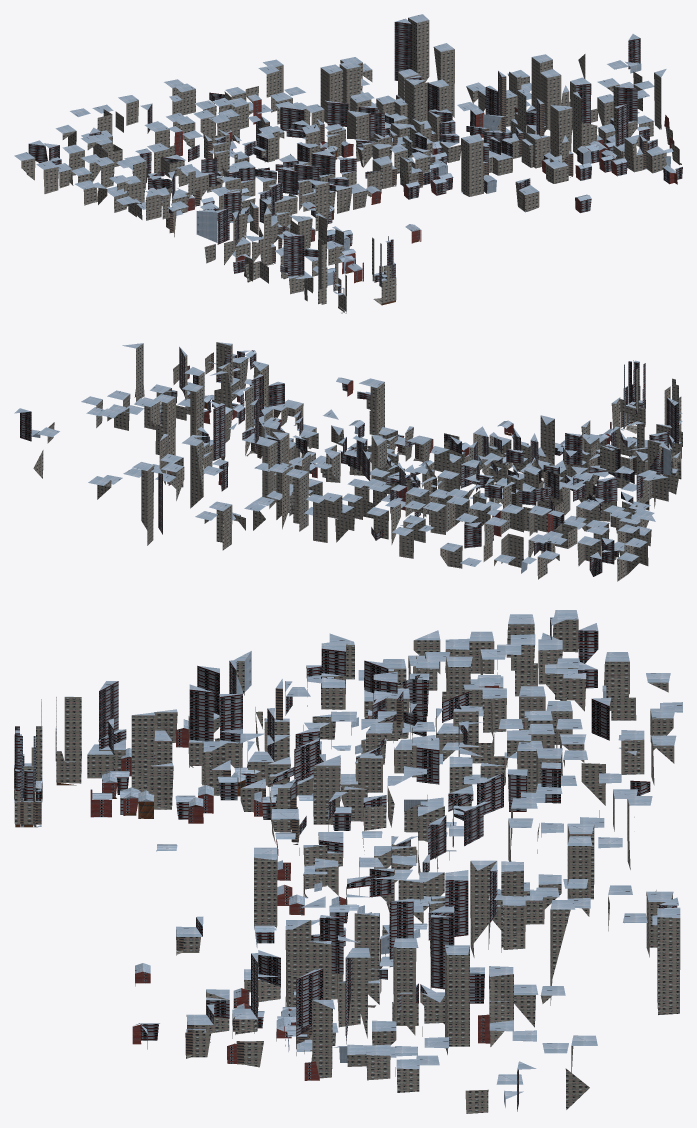
File: kp_bg_city_2k_tris.glb
3 renders of one model, top to bottom at view 1: azimuth 30°, elevation 25°; view 2: azimuth 150°, elevation 25°; view 3: azimuth 270°, elevation 25°, orthographic. The views are drawn at different scales.
Visible parts, largest first — view 1: Plane.001; view 2: Plane.001; view 3: Plane.001.
Part boxes in pixels (x1,y1,x2,y2): Plane.001: (14,14,682,313); Plane.001: (14,342,682,581); Plane.001: (14,610,682,1113).
Size of the model in its own units: 86.19 by 10.22 by 55.82.
Materials: 7 (7 with a texture image).
